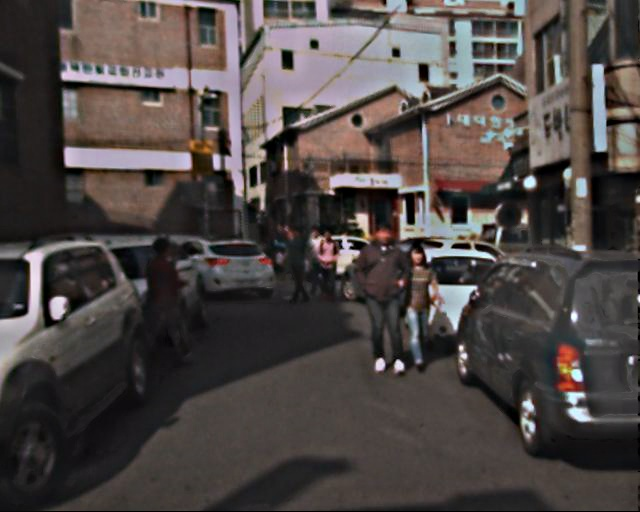person: (356, 224, 417, 373), (139, 240, 192, 370), (390, 248, 441, 373), (281, 229, 312, 305), (315, 229, 344, 299), (303, 229, 329, 292), (274, 217, 294, 266)
